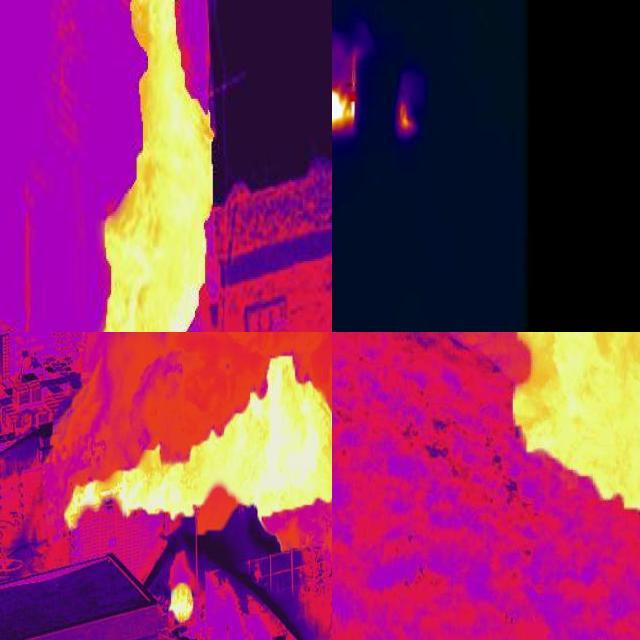fire: (60, 353, 333, 547), (105, 1, 218, 333), (511, 333, 640, 515), (333, 45, 357, 135), (164, 582, 199, 626), (398, 100, 417, 133)
